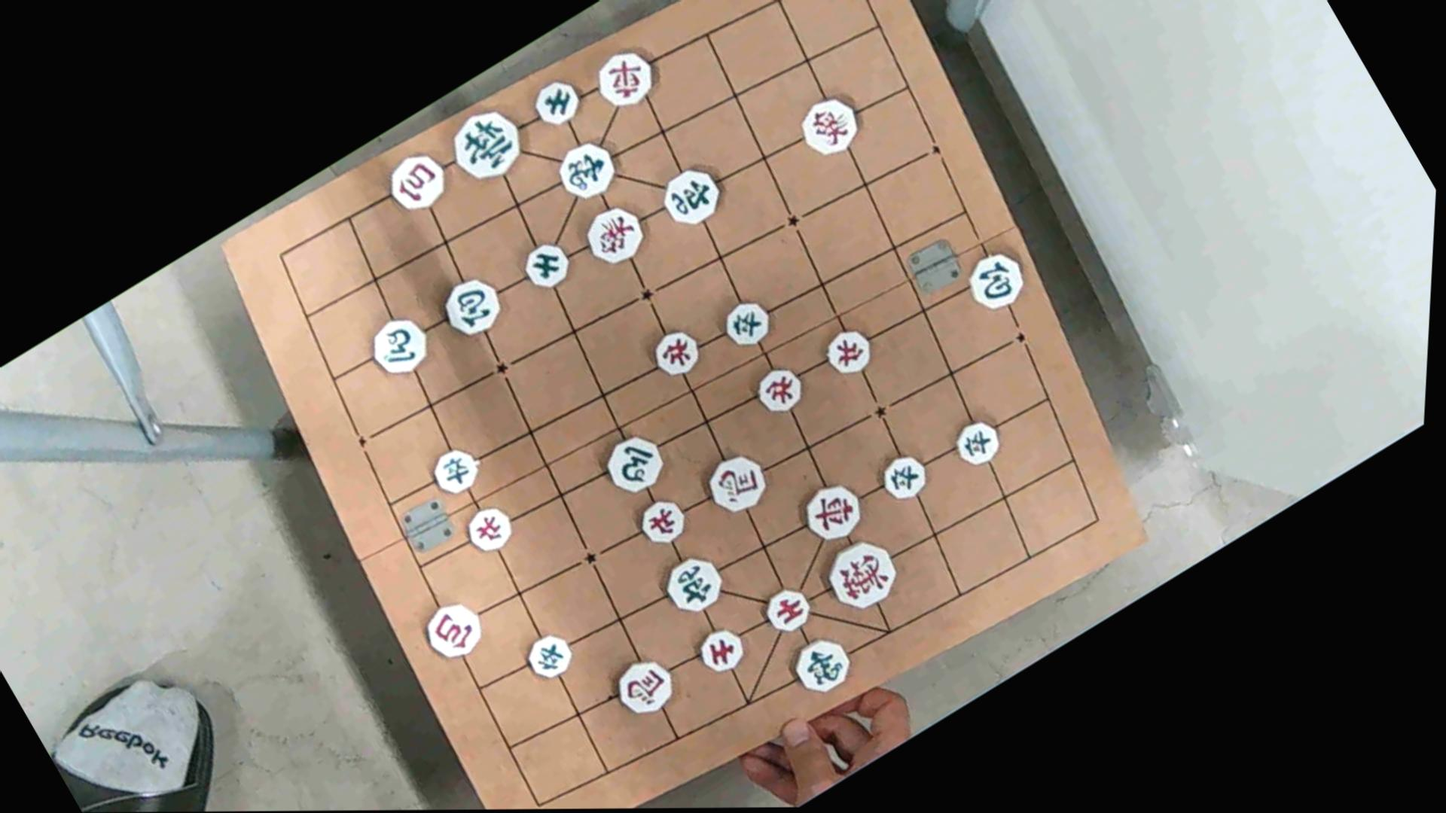cha_green: (654, 547, 734, 622), (652, 160, 730, 233)
cha_red: (587, 42, 664, 114), (794, 477, 869, 548)
jol_green: (425, 442, 490, 501), (718, 292, 781, 351), (947, 413, 1008, 471), (520, 627, 581, 684), (876, 448, 937, 505)
jol_red: (645, 322, 709, 381), (457, 500, 520, 558), (818, 321, 881, 379), (750, 361, 812, 419), (633, 494, 695, 551)
ma_green: (360, 309, 438, 382), (593, 427, 671, 498)
ma_red: (605, 650, 682, 721), (702, 447, 777, 519)
po_green: (956, 242, 1036, 316), (433, 269, 510, 341)
po_red: (413, 592, 491, 665), (378, 144, 455, 217)
sa_green: (526, 72, 590, 131), (514, 234, 577, 291)
sa_red: (691, 620, 754, 678), (758, 580, 819, 638)
sang_green: (786, 630, 860, 699), (550, 136, 623, 203)
sang_red: (792, 89, 870, 162), (575, 199, 652, 272)
wang_green: (441, 100, 532, 187)
wang_red: (819, 534, 905, 616)
